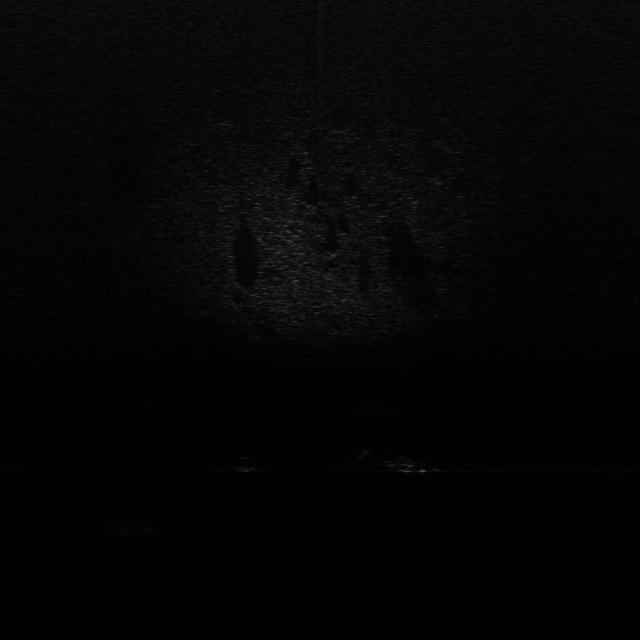ball: (229, 454, 262, 473)
human body: (352, 446, 486, 479)
